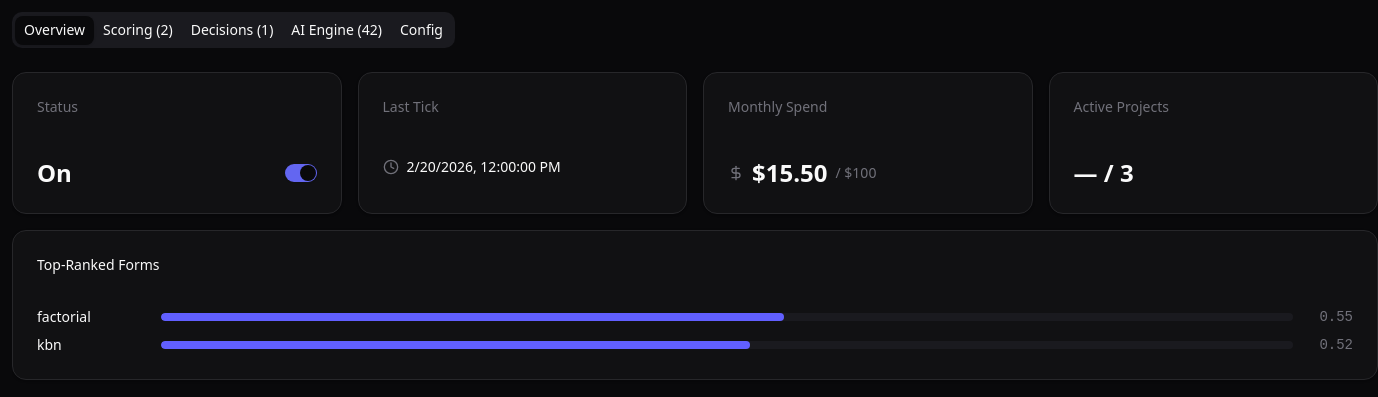
Test: StrategyPage › decisions tab shows decision cards
Click the tab "Decisions (1)": (232, 30) x1=182 y1=16 x2=282 y2=44
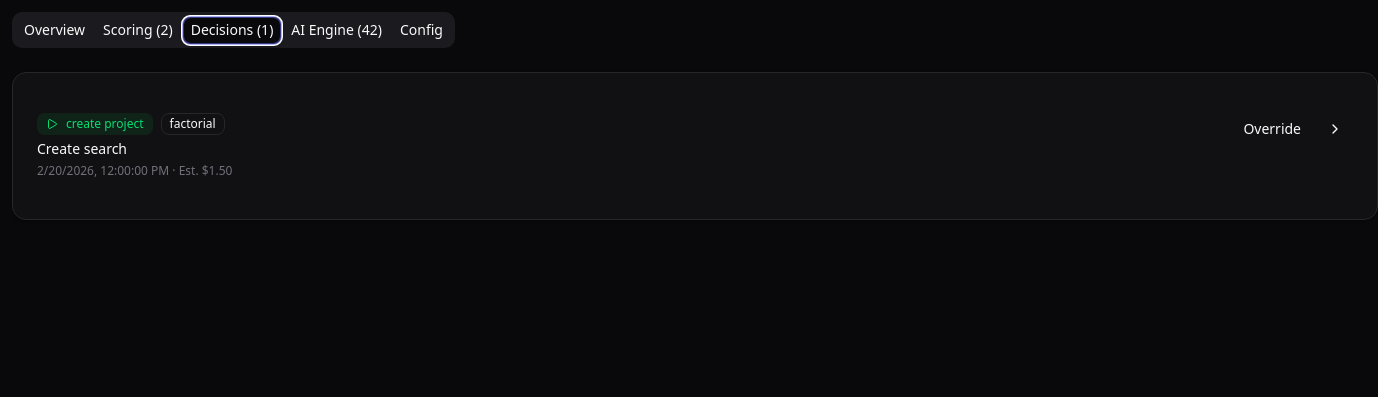
Check: the text "Create search" is shown, box x1=37 y1=139 x2=127 y2=158
